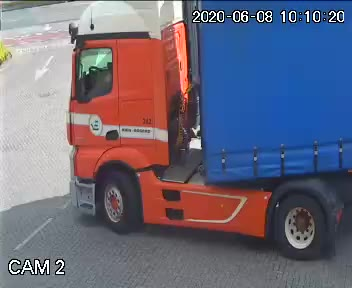car: (65, 0, 352, 269)
